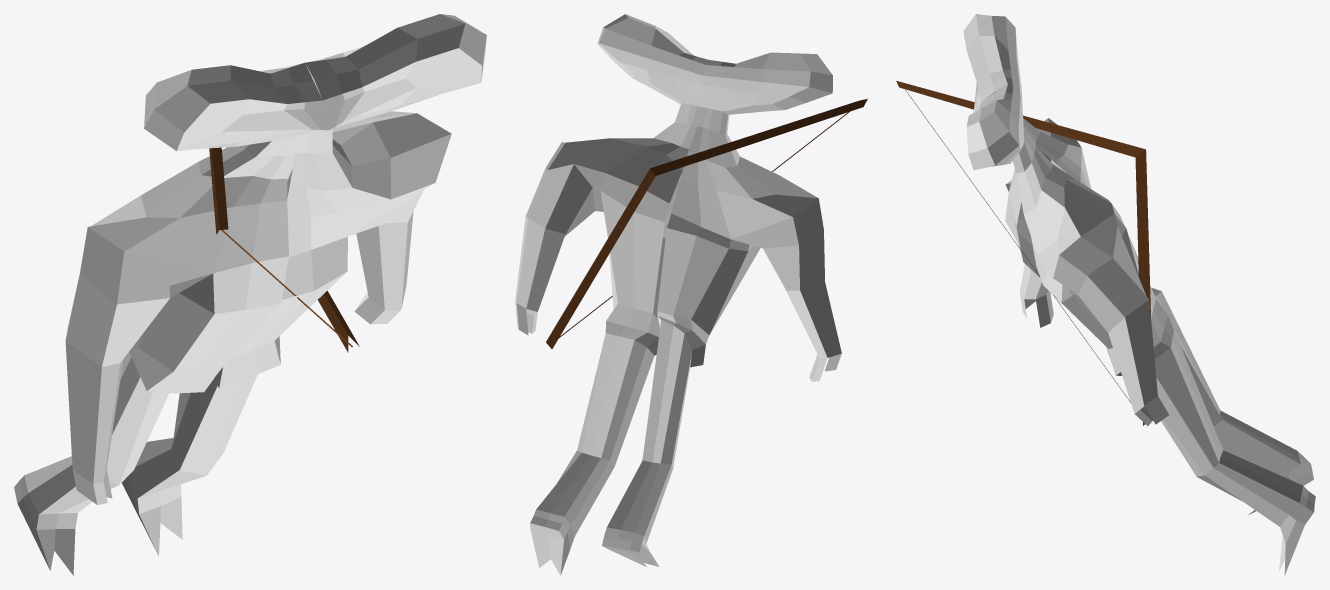
Rendered from Archer2d.obj.
3 renders of one model, left to right at view 1: azimuth 30°, elevation 25°; view 2: azimuth 150°, elevation 25°; view 3: azimuth 270°, elevation 25°, orthographic. The views are drawn at different scales.
Parts seen in each view (by area): view 1: Cube, Plane.001_Bow; view 2: Cube, Plane.001_Bow; view 3: Cube, Plane.001_Bow.
Part boxes in pixels (x1,y1,x2,y2): Cube: (14,14,486,575); Plane.001_Bow: (209,147,359,352); Cube: (515,14,841,575); Plane.001_Bow: (546,99,867,349); Cube: (963,14,1315,575); Plane.001_Bow: (896,81,1150,425).
Size of the model in its own units: 0.8886 by 1.39 by 1.06.
